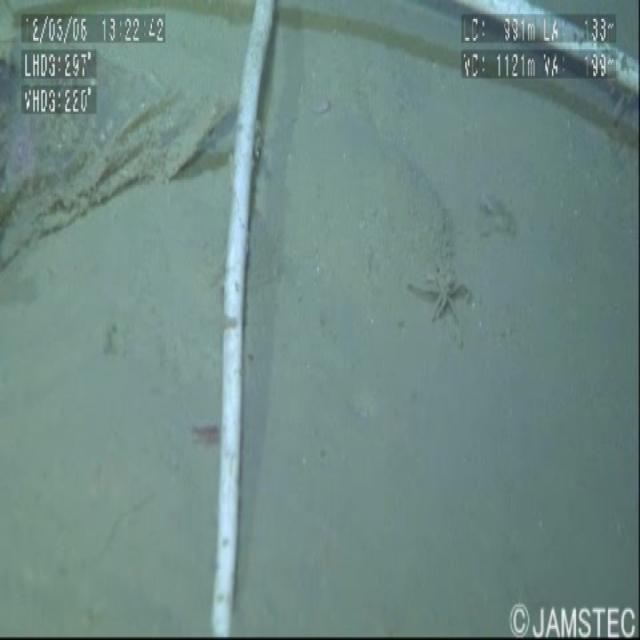Wood: (212, 0, 280, 637), (455, 0, 640, 142)
